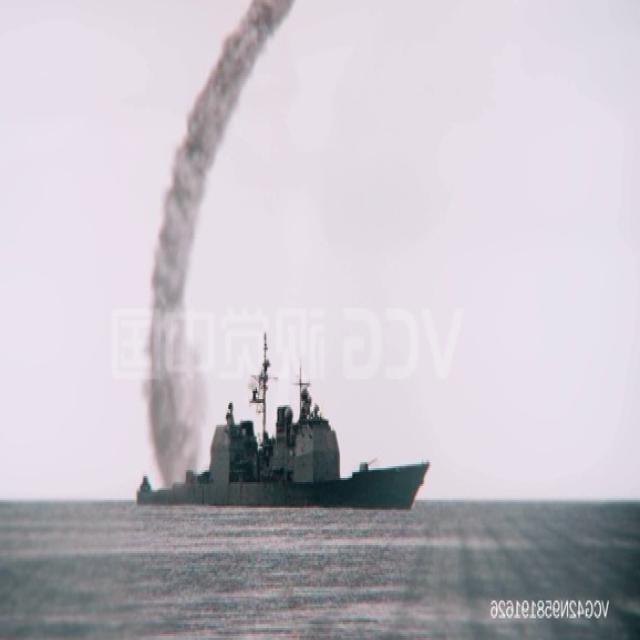navalvessels: (133, 330, 443, 506)
